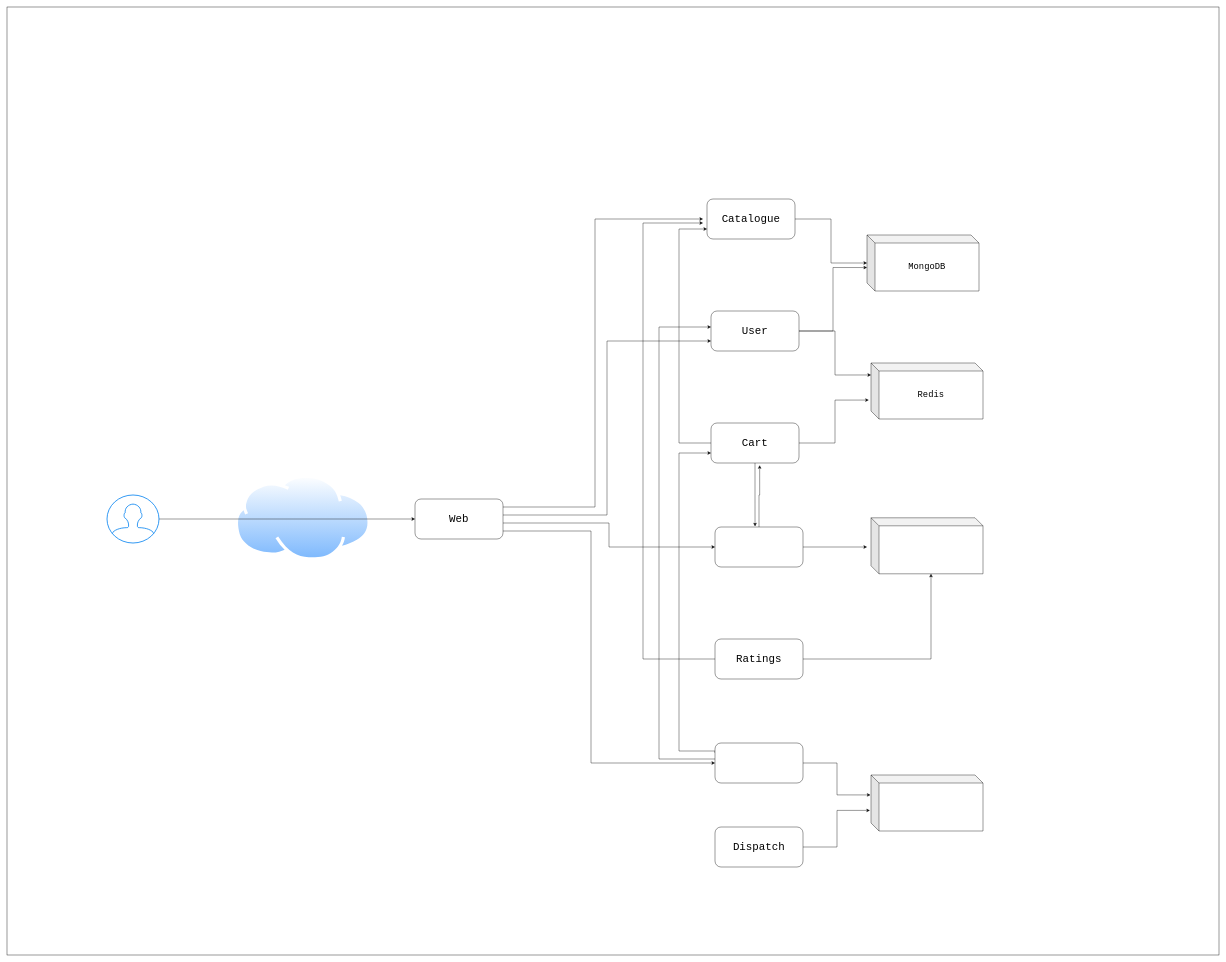
Image size: 1226x962. Some labels were removed from this diagram. Here are the shapes that lost their labels. From the top down, the box of each, then its label:
(715, 527, 803, 567): Shipping
(871, 517, 983, 574): MySQL
(715, 743, 803, 783): Payment
(871, 775, 983, 831): RabbitMQ
